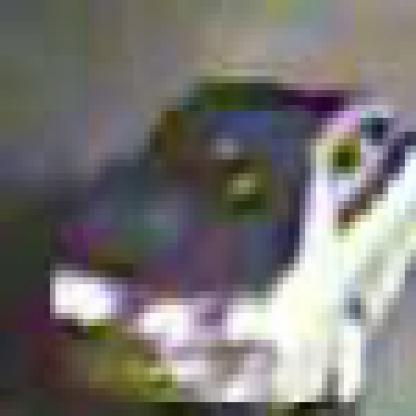car: (51, 70, 411, 410)
